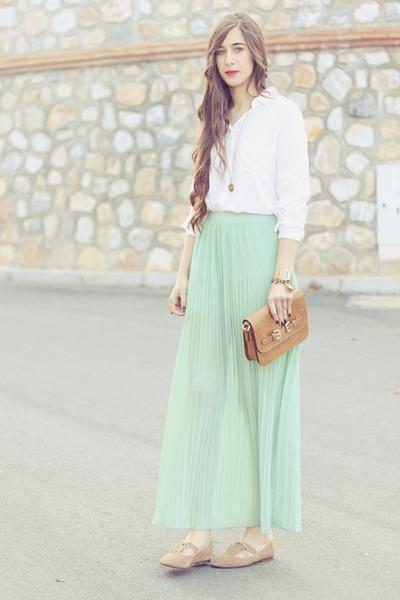bag: (242, 296, 308, 365)
shirt: (205, 95, 317, 240)
shoe: (151, 513, 263, 578)
skirt: (161, 209, 314, 534)
